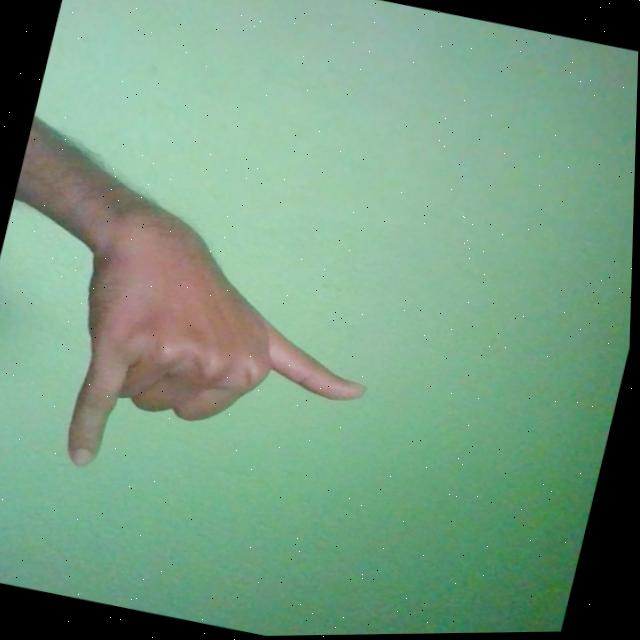Call Me: (42, 181, 404, 522)
